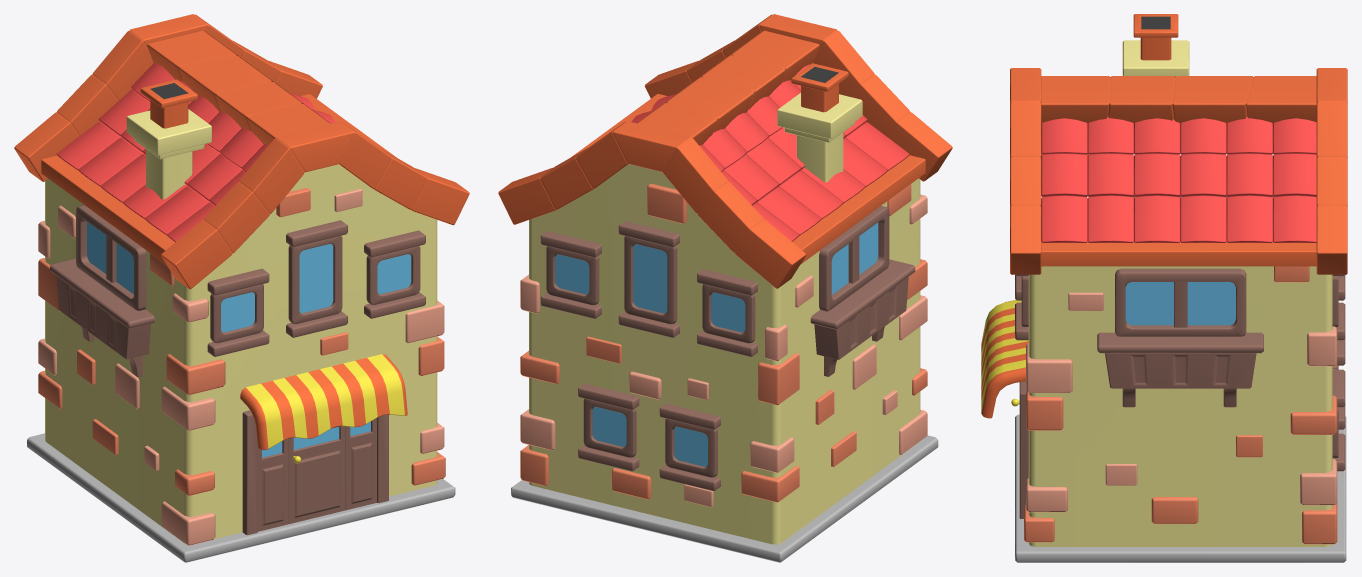
The model's file is Town_6_House_1.glb.
3 renders of one model, left to right at view 1: azimuth 30°, elevation 25°; view 2: azimuth 150°, elevation 25°; view 3: azimuth 270°, elevation 25°, orthographic. The views are drawn at different scales.
Visible parts, largest first — view 1: Town_6_House_1; view 2: Town_6_House_1; view 3: Town_6_House_1.
Boxes of the visible parts, x1,y1,x2,y2 form: Town_6_House_1: (14, 14, 469, 562); Town_6_House_1: (498, 14, 952, 562); Town_6_House_1: (981, 14, 1347, 562).
Size of the model in its own units: 6.41 by 8.26 by 6.39.
1 material, 1 textured.
